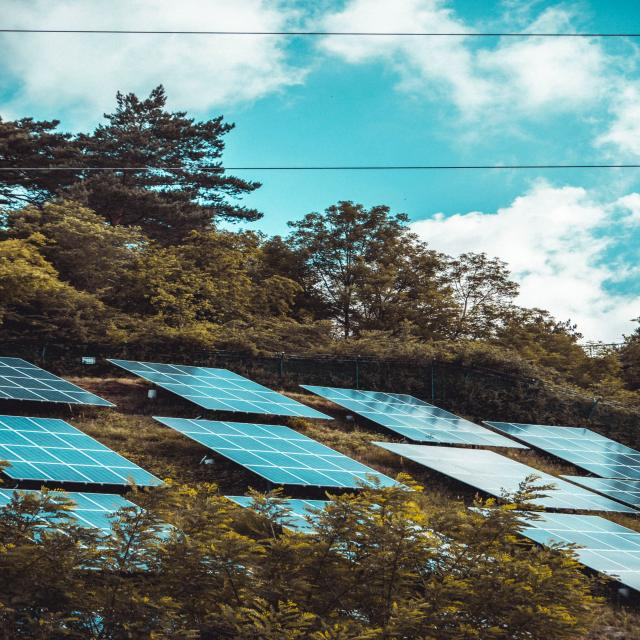clean-solar-panel: (154, 416, 399, 489), (300, 385, 527, 449), (107, 359, 332, 419), (0, 415, 161, 486)
